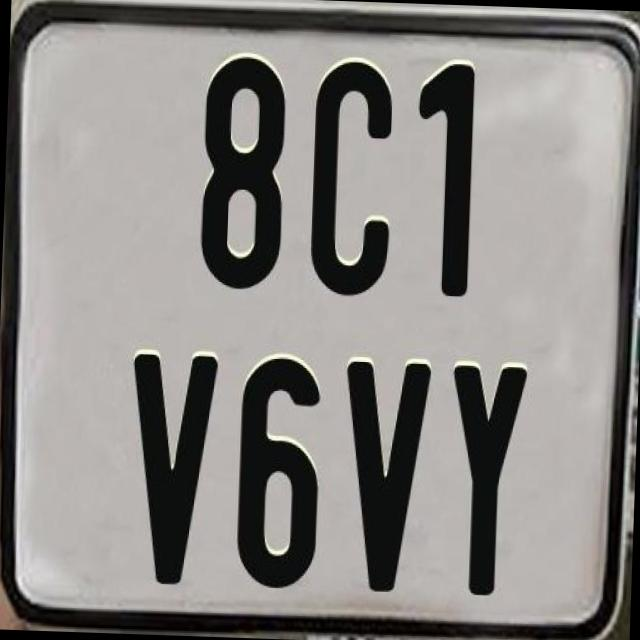1: (409, 62, 480, 302)
6: (233, 354, 323, 587)
8: (197, 50, 289, 293)
C: (304, 59, 390, 305)
V: (338, 361, 438, 593), (125, 348, 217, 588)
Y: (441, 360, 524, 600)
